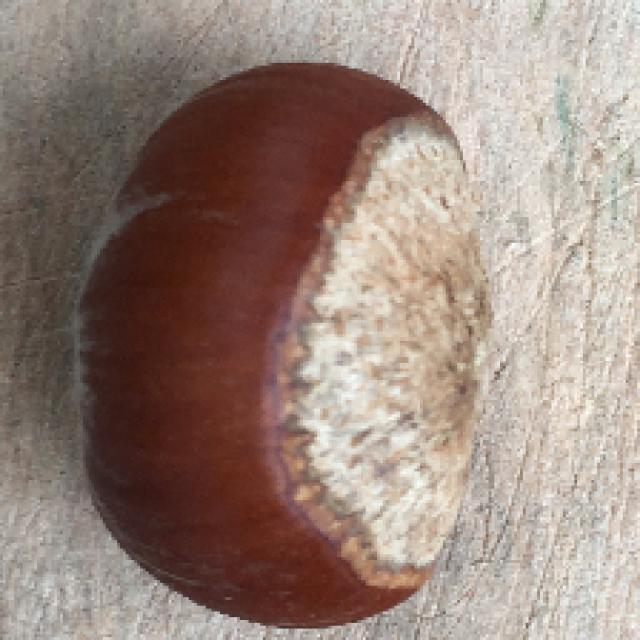QualityHazelnut: (68, 58, 496, 631)
